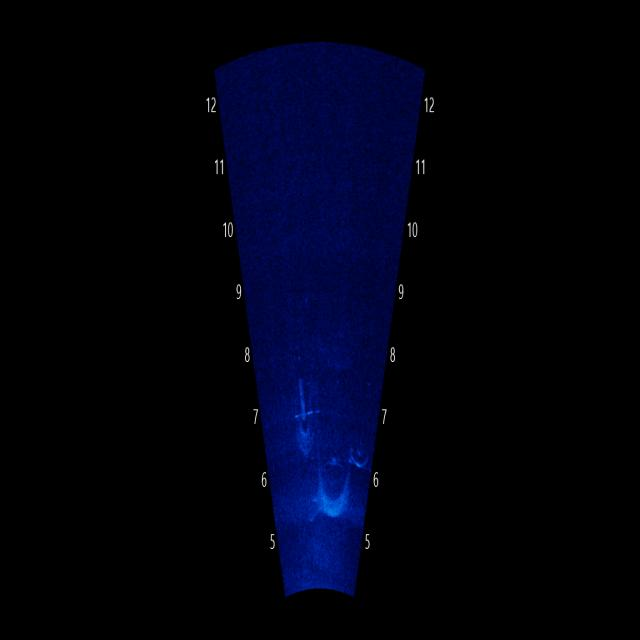circle: (312, 442, 356, 519)
